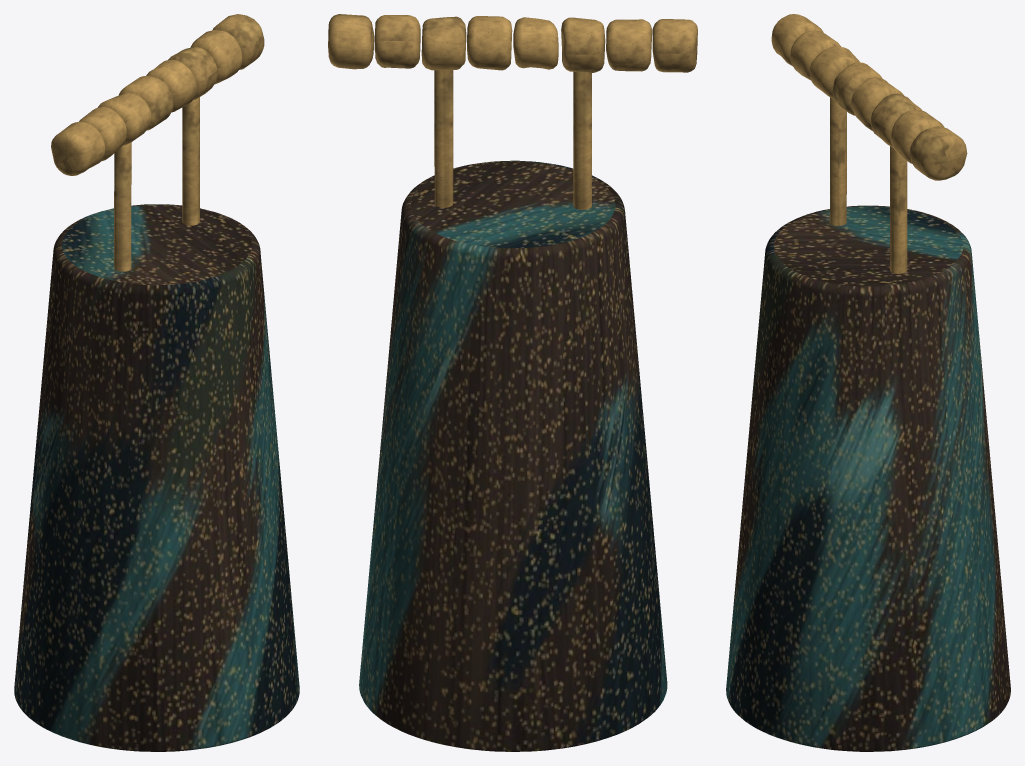
File: knight-black.glb
3 renders of one model, left to right at view 1: azimuth 30°, elevation 25°; view 2: azimuth 150°, elevation 25°; view 3: azimuth 270°, elevation 25°, orthographic. The views are drawn at different scales.
Visible parts, largest first — view 1: Telo, Sloupek_1, Koralek_1, Sloupek_2, Koralek_7, Koralek_8, Koralek_4, Koralek_3, Koralek_5, Koralek_2, Koralek_6; view 2: Telo, Sloupek_2, Sloupek_1, Koralek_8, Koralek_7, Koralek_1, Koralek_5, Koralek_2, Koralek_6, Koralek_3, Koralek_4; view 3: Telo, Koralek_8, Sloupek_2, Sloupek_1, Koralek_3, Koralek_7, Koralek_5, Koralek_6, Koralek_2, Koralek_1, Koralek_4.
Part boxes in pixels (<box>): Telo: <box>14,204,299,751</box>; Sloupek_1: <box>114,142,131,271</box>; Koralek_1: <box>51,121,105,175</box>; Sloupek_2: <box>182,97,199,225</box>; Koralek_7: <box>190,30,242,84</box>; Koralek_8: <box>212,14,264,69</box>; Koralek_4: <box>118,76,173,130</box>; Koralek_3: <box>97,93,151,145</box>; Koralek_5: <box>146,60,197,112</box>; Koralek_2: <box>79,106,127,161</box>; Koralek_6: <box>168,46,217,99</box>; Telo: <box>359,160,667,751</box>; Sloupek_2: <box>434,70,453,207</box>; Sloupek_1: <box>573,71,591,209</box>; Koralek_8: <box>328,14,374,69</box>; Koralek_7: <box>374,15,420,68</box>; Koralek_1: <box>652,19,697,72</box>; Koralek_5: <box>467,16,512,70</box>; Koralek_2: <box>606,19,652,71</box>; Koralek_6: <box>421,16,466,70</box>; Koralek_3: <box>561,17,605,72</box>; Koralek_4: <box>513,17,558,69</box>; Telo: <box>726,205,1010,751</box>; Koralek_8: <box>909,126,967,180</box>; Sloupek_2: <box>890,146,907,273</box>; Sloupek_1: <box>829,97,846,225</box>; Koralek_3: <box>810,46,860,98</box>; Koralek_7: <box>890,110,943,163</box>; Koralek_5: <box>851,77,903,130</box>; Koralek_6: <box>870,93,921,147</box>; Koralek_2: <box>790,30,841,80</box>; Koralek_1: <box>771,14,823,66</box>; Koralek_4: <box>832,62,882,115</box>.
Bounding box in the file's own units: 0.7082 × 1.54 × 0.6431.
3 materials, 3 textured.
